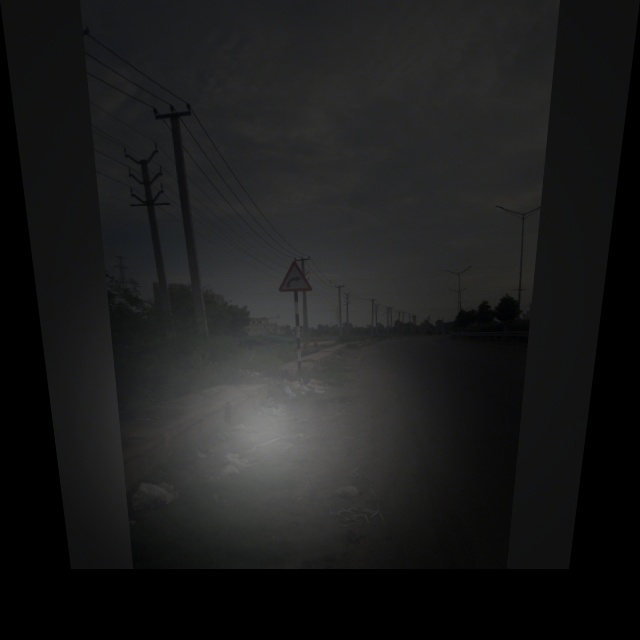Right_Hand_Curve: (278, 259, 313, 297)
